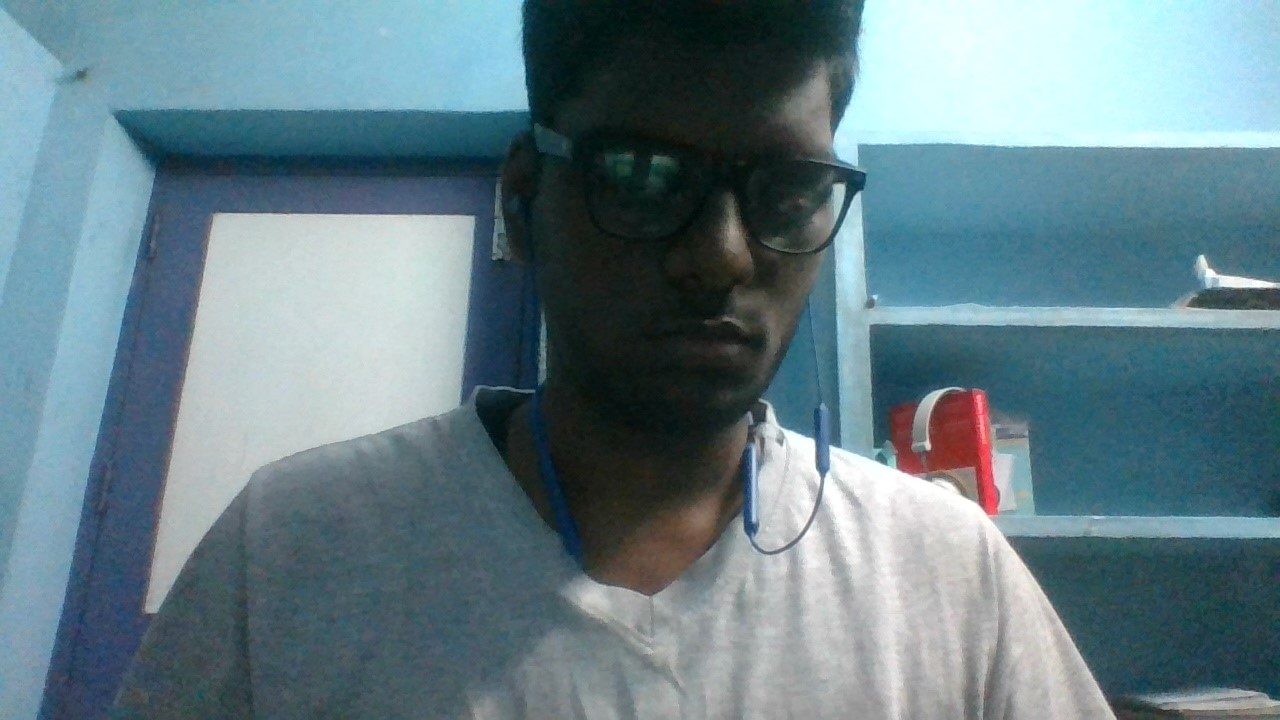person: (79, 1, 1123, 720)
